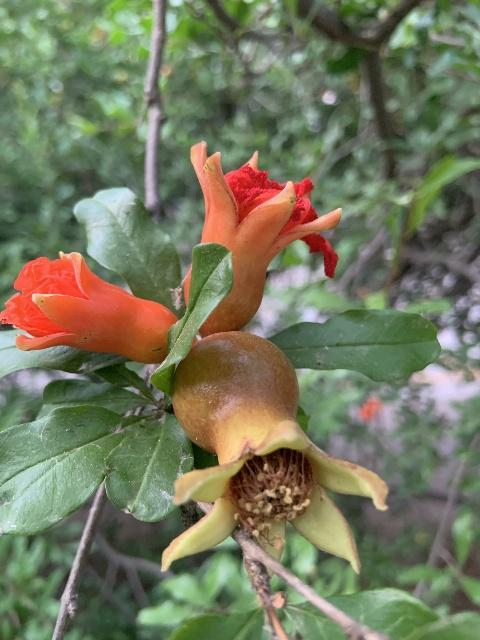early-fruit: (163, 332, 390, 582)
flower: (184, 141, 342, 338), (0, 250, 175, 364)
